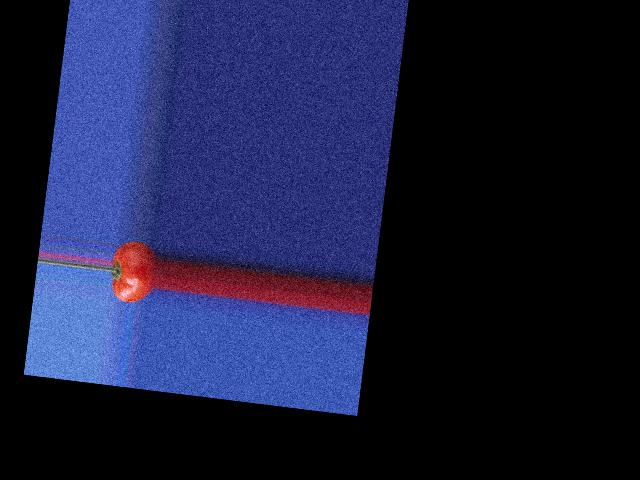tomato: (107, 238, 159, 304)
